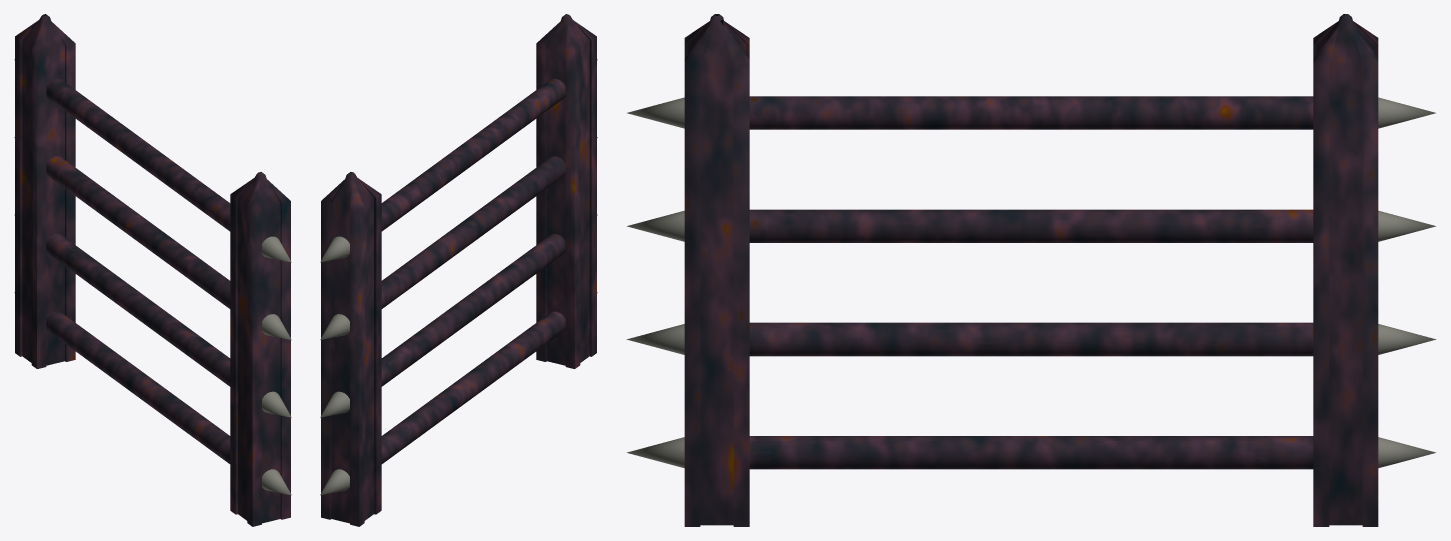
The model's file is CA_016_iron_ladder_var3.glb.
The picture shows the model from 3 angles, left to right: view 1: azimuth 30°, elevation 25°; view 2: azimuth 150°, elevation 25°; view 3: azimuth 270°, elevation 25°; orthographic projection. The views are drawn at different scales.
Visible parts, largest first — view 1: ladder_support, ladder_bars, spikes; view 2: ladder_support, ladder_bars, spikes; view 3: ladder_bars, ladder_support, spikes.
Boxes of the visible parts, x1,y1,x2,y2 form: ladder_support: [15, 14, 290, 526]; ladder_bars: [46, 78, 230, 463]; spikes: [14, 59, 291, 495]; ladder_support: [321, 14, 596, 526]; ladder_bars: [381, 78, 565, 463]; spikes: [320, 59, 597, 495]; ladder_bars: [749, 96, 1313, 469]; ladder_support: [684, 14, 1378, 526]; spikes: [626, 97, 1436, 468].
Size of the model in its own units: 0.18 by 1.53 by 2.25.
2 materials, 1 textured.
